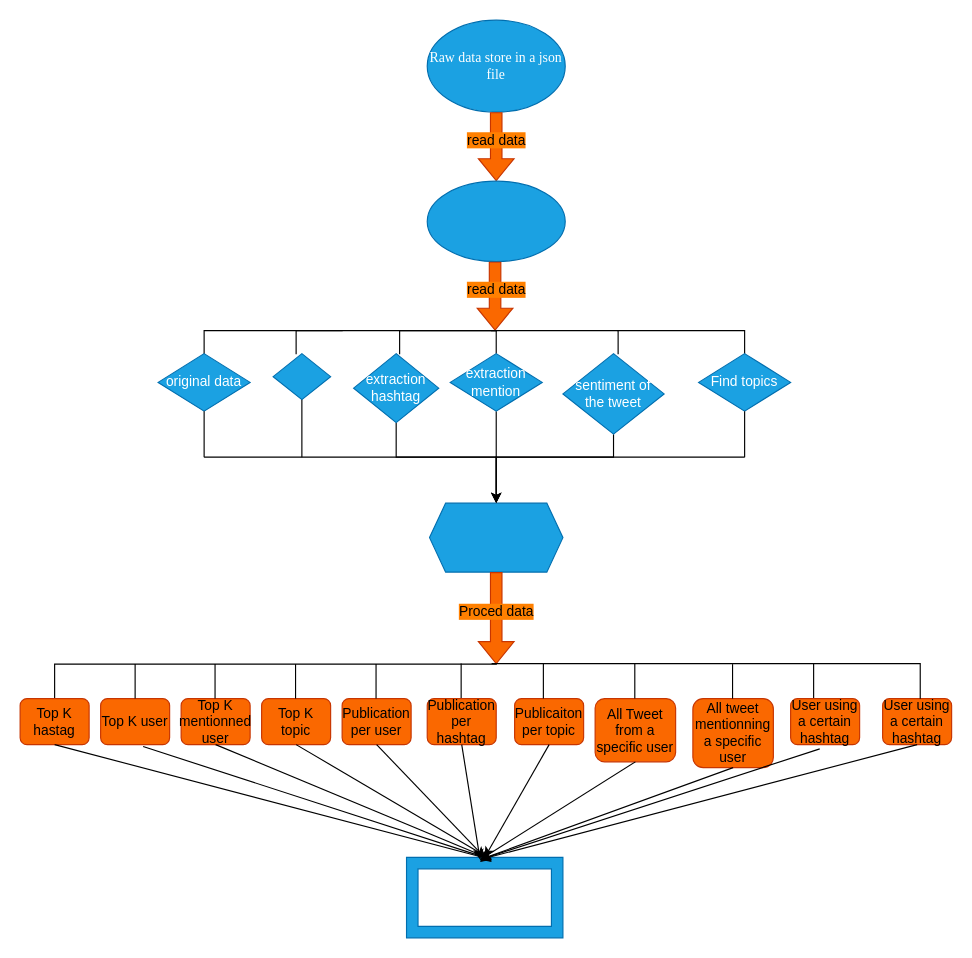
Image size: 972x958. Some labels were removed from this diagram. Each missing label, with the centre of its shape:
"autor" goes at point 301,376.
"Delete specifc data and store it in 'zone d'atterissage.json'" goes at point 495,221.
"Show data Proceed" goes at point 484,897.
"transforming data into class object" goes at point 495,537.
